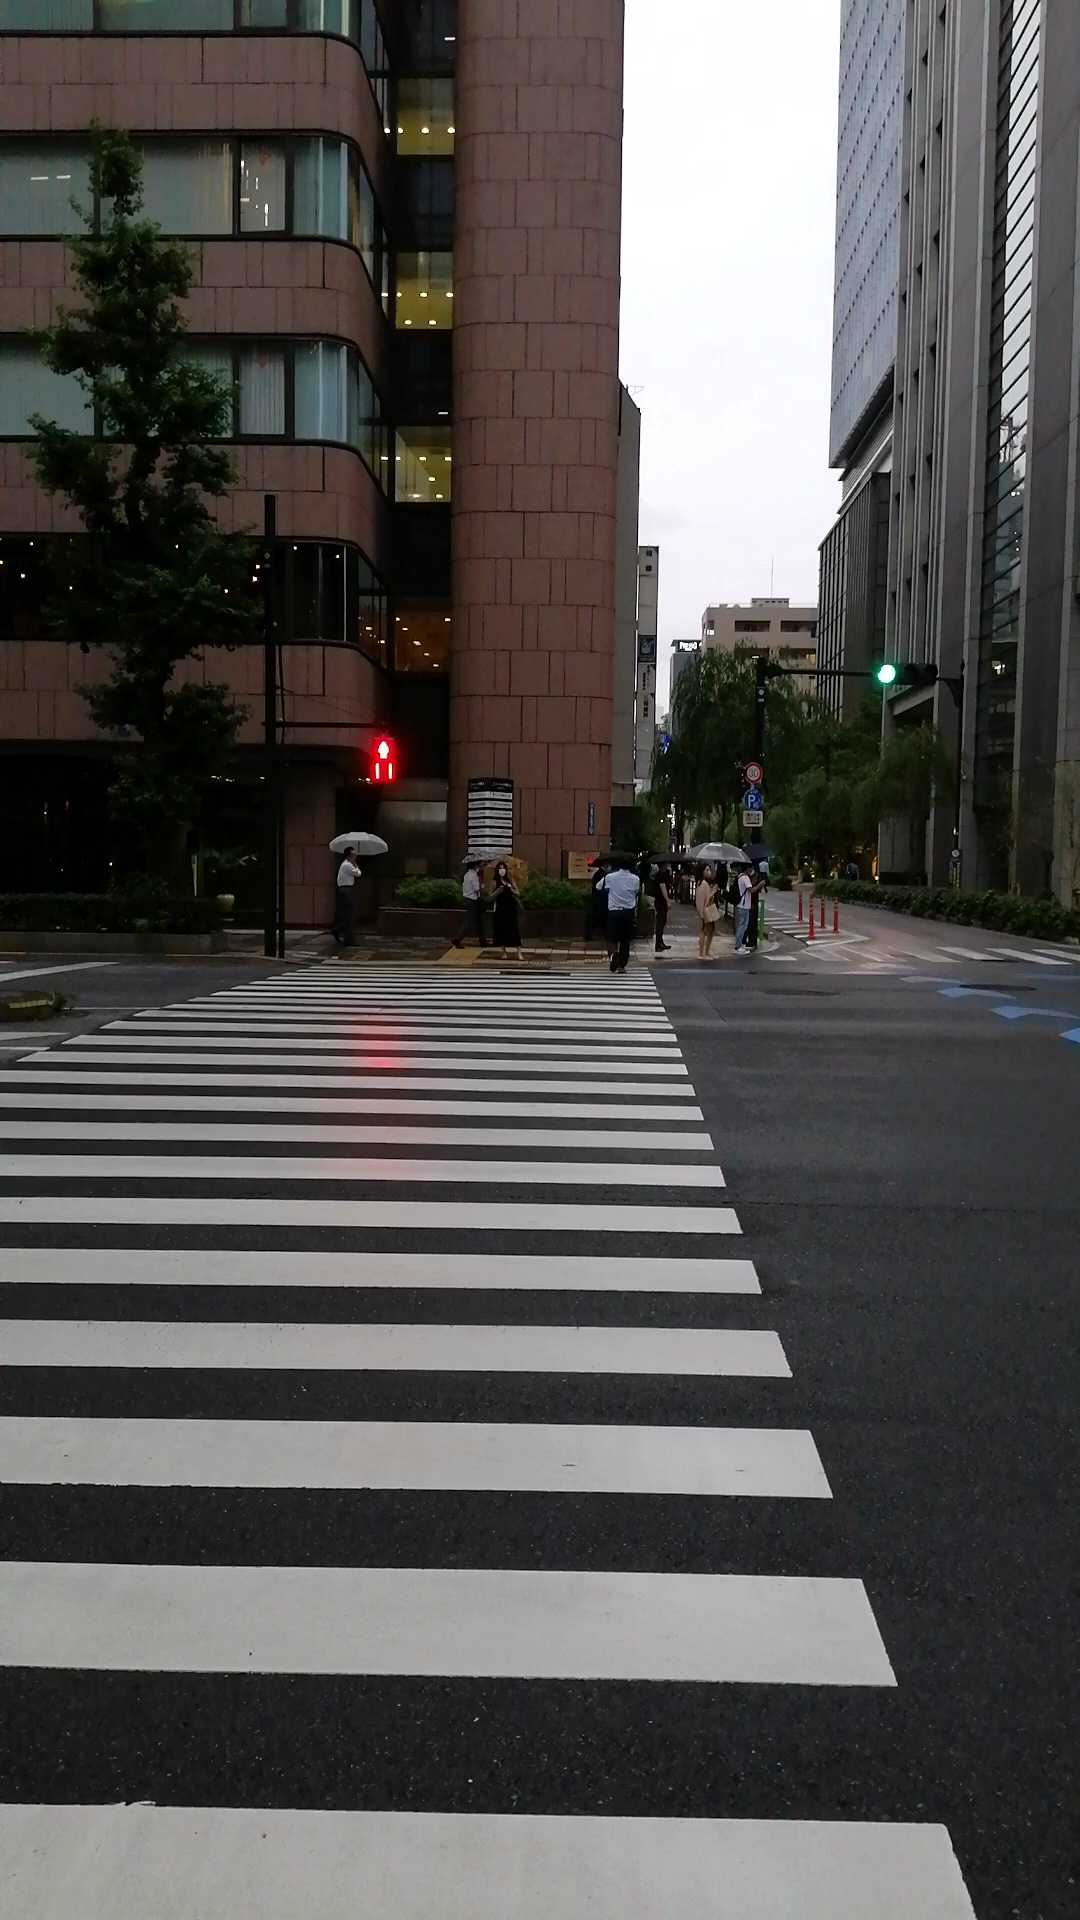red: (371, 735, 397, 785)
